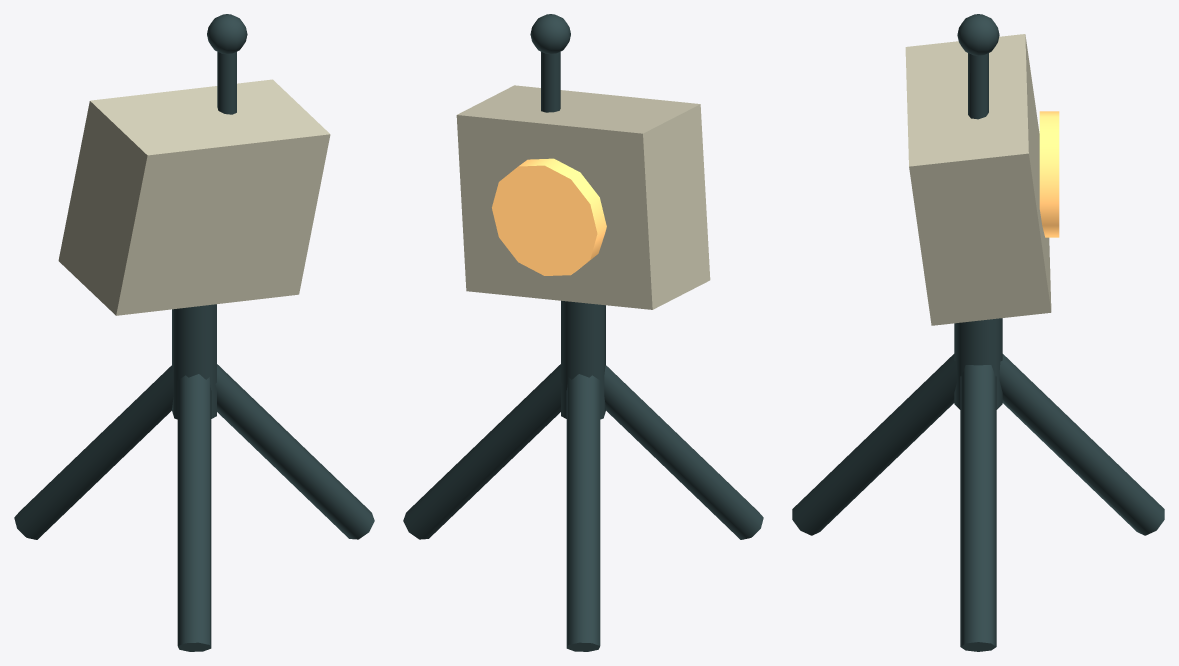
Rendered from field-probe.glb.
The picture shows the model from 3 angles, left to right: view 1: azimuth 30°, elevation 25°; view 2: azimuth 150°, elevation 25°; view 3: azimuth 270°, elevation 25°; orthographic projection. The views are drawn at different scales.
Visible parts, largest first — view 1: Vesper / field-probe; view 2: Vesper / field-probe, indicator; view 3: Vesper / field-probe, indicator.
Boxes of the visible parts, x1,y1,x2,y2 form: Vesper / field-probe: (14, 14, 374, 651); Vesper / field-probe: (403, 14, 763, 651); indicator: (492, 158, 606, 275); Vesper / field-probe: (792, 14, 1164, 651); indicator: (1039, 111, 1059, 237).
Size of the model in its own units: 1.11 by 2.1 by 1.23.
